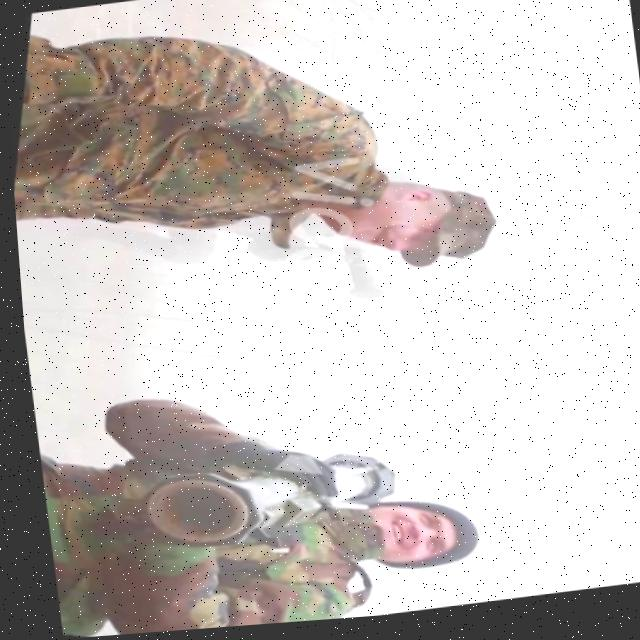rocket: (129, 408, 403, 594)
